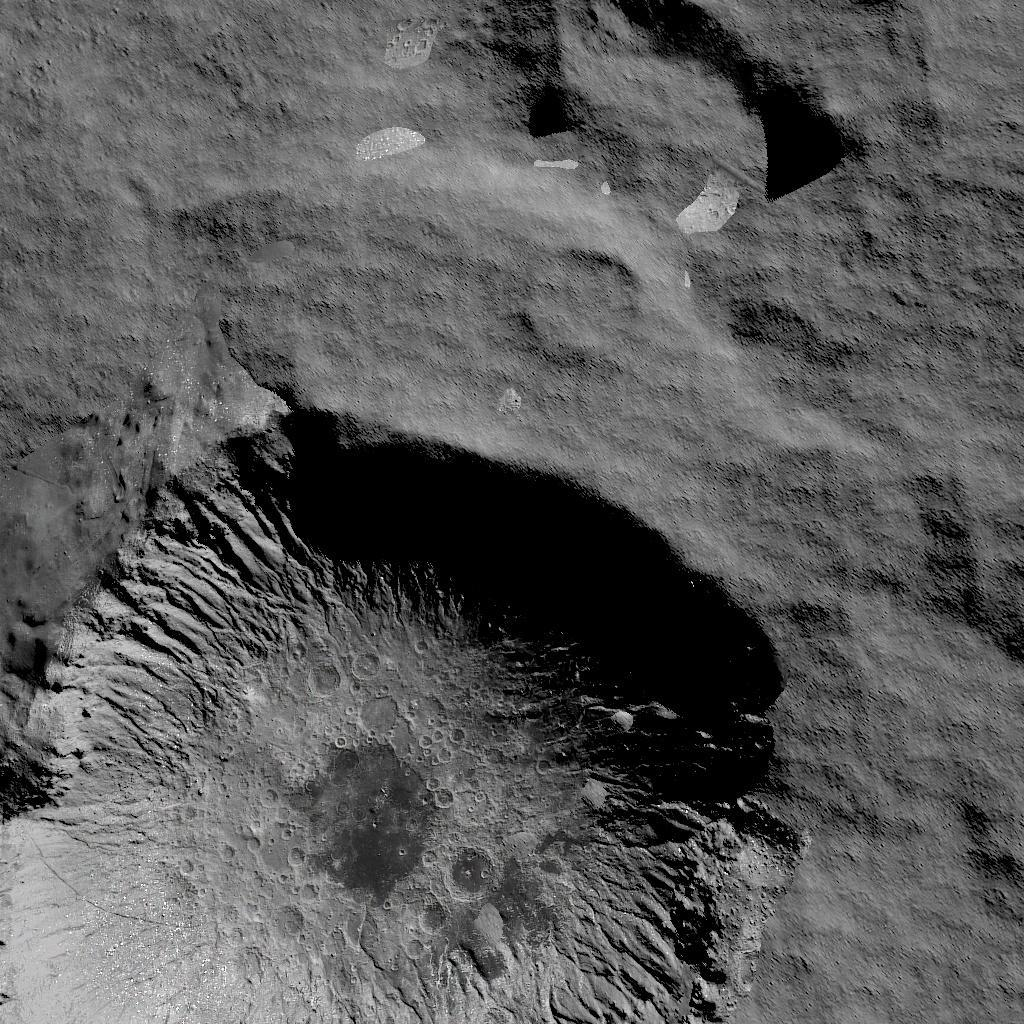Crater: (1, 394, 796, 1024), (515, 234, 648, 368)
Plan surface: (0, 0, 498, 379)
